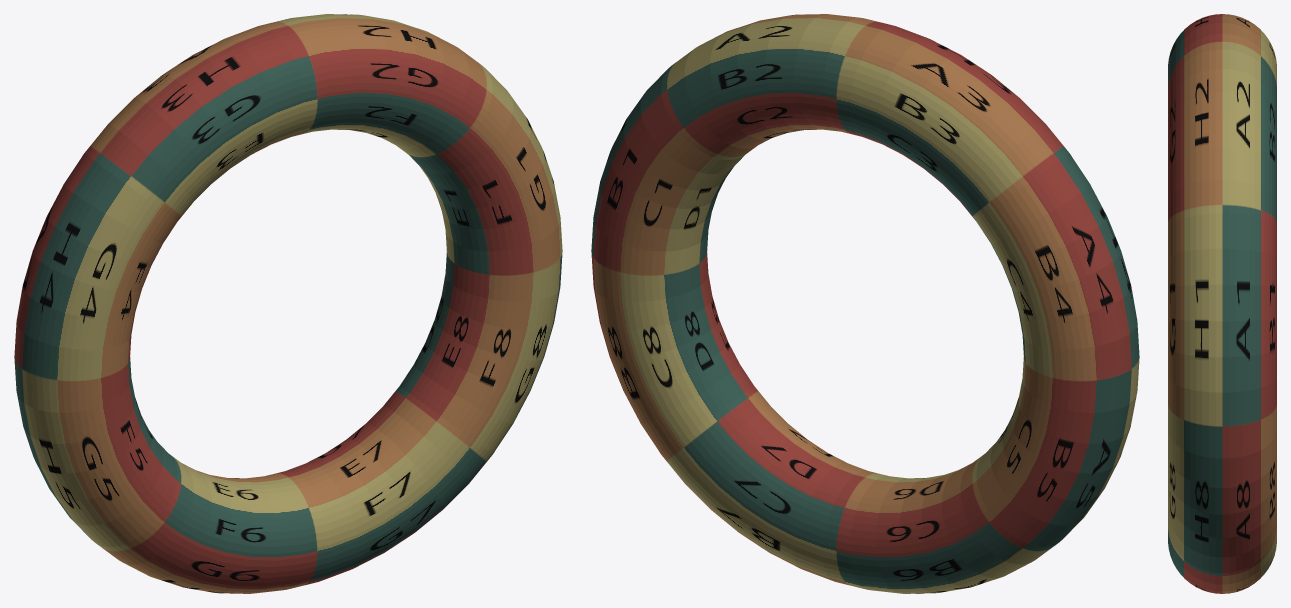
File: texture_torus_R29_r18.glb
3 views of the same model, side by side, from view 1: azimuth 30°, elevation 25°; view 2: azimuth 150°, elevation 25°; view 3: azimuth 270°, elevation 25° (orthographic). The views are drawn at different scales.
Visible parts, largest first — view 1: world; view 2: world; view 3: world.
Boxes of the visible parts, x1,y1,x2,y2 form: world: [14, 14, 562, 593]; world: [591, 14, 1139, 593]; world: [1168, 14, 1276, 593].
Bounding box in the file's own units: 36.13 × 36.06 × 6.79.
Materials: 1 (1 with a texture image).
